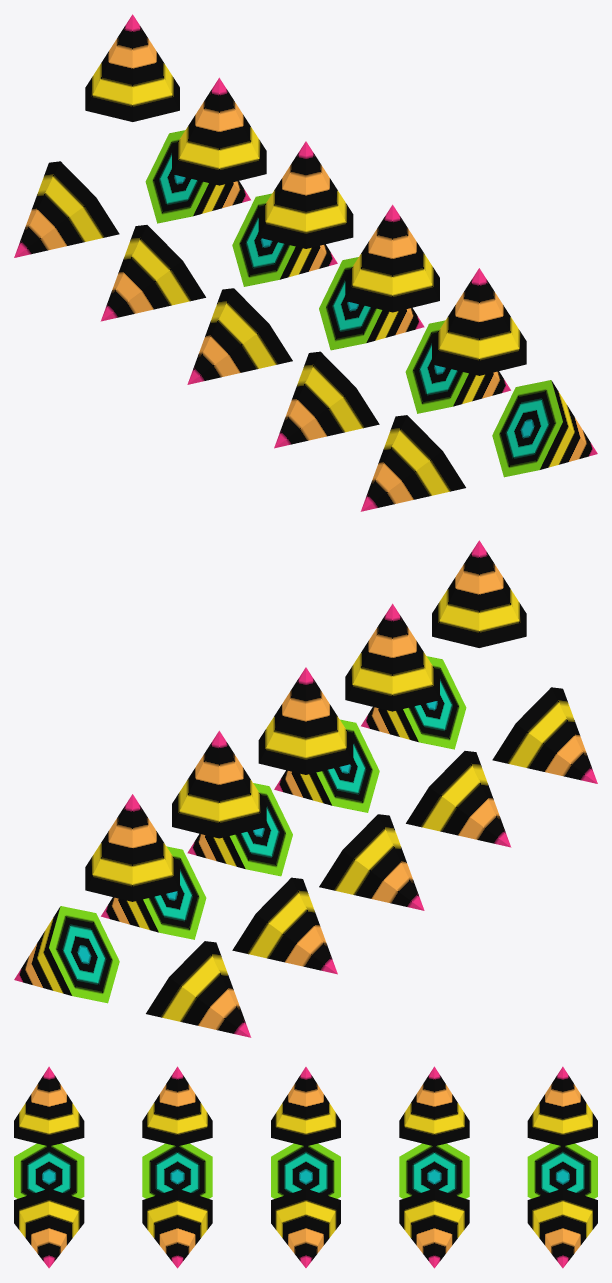
Rendered from hx_a_pyramids_101B.glb.
The picture shows the model from 3 angles, top to bottom: view 1: azimuth 30°, elevation 25°; view 2: azimuth 150°, elevation 25°; view 3: azimuth 270°, elevation 25°; orthographic projection. The views are drawn at different scales.
Visible parts, largest first — view 1: hexamidfL-UV03 0 (×5), hexamidfL-UV03 2 (×5), hexamidfL-UV03 1 (×5); view 2: hexamidfL-UV03 0 (×5), hexamidfL-UV03 2 (×5), hexamidfL-UV03 1 (×5); view 3: hexamidfL-UV03 1 (×5), hexamidfL-UV03 0 (×5), hexamidfL-UV03 2 (×5).
Boxes of the visible parts, x1,y1,x2,y2 form: hexamidfL-UV03 0 (×5): (85,14,526,375); hexamidfL-UV03 2 (×5): (14,161,465,511); hexamidfL-UV03 1 (×5): (145,130,597,477); hexamidfL-UV03 0 (×5): (85,540,526,901); hexamidfL-UV03 2 (×5): (146,687,597,1037); hexamidfL-UV03 1 (×5): (14,656,466,1003); hexamidfL-UV03 1 (×5): (14,1188,597,1268); hexamidfL-UV03 0 (×5): (14,1066,597,1146); hexamidfL-UV03 2 (×5): (14,1143,597,1198).
Bounding box in the file's own units: 31.62 × 27.44 × 90.93.
Materials: 1 (1 with a texture image).
